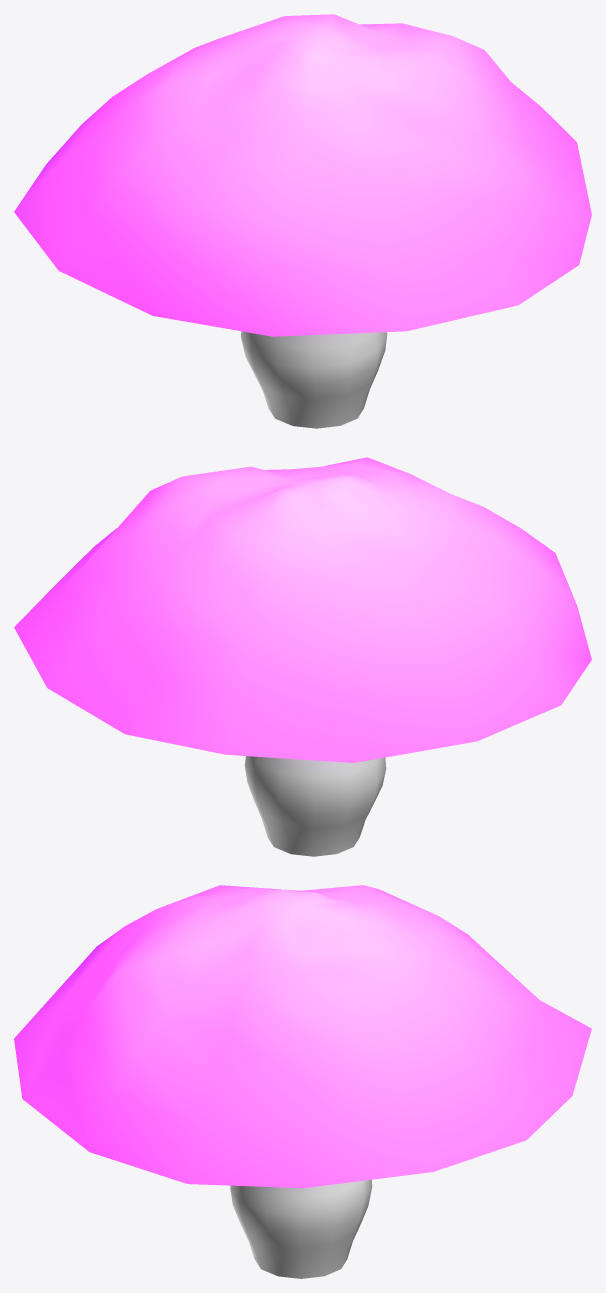
File: mushroom_5.glb
The picture shows the model from 3 angles, top to bottom: view 1: azimuth 30°, elevation 25°; view 2: azimuth 150°, elevation 25°; view 3: azimuth 270°, elevation 25°; orthographic projection. The views are drawn at different scales.
Visible parts, largest first — view 1: geo1; view 2: geo1; view 3: geo1.
Boxes of the visible parts, x1=… form: geo1: x1=14, y1=14, x2=591, y2=428; geo1: x1=14, y1=457, x2=591, y2=856; geo1: x1=14, y1=885, x2=591, y2=1278.
Size of the model in its own units: 0.3343 by 0.2262 by 0.3324.
